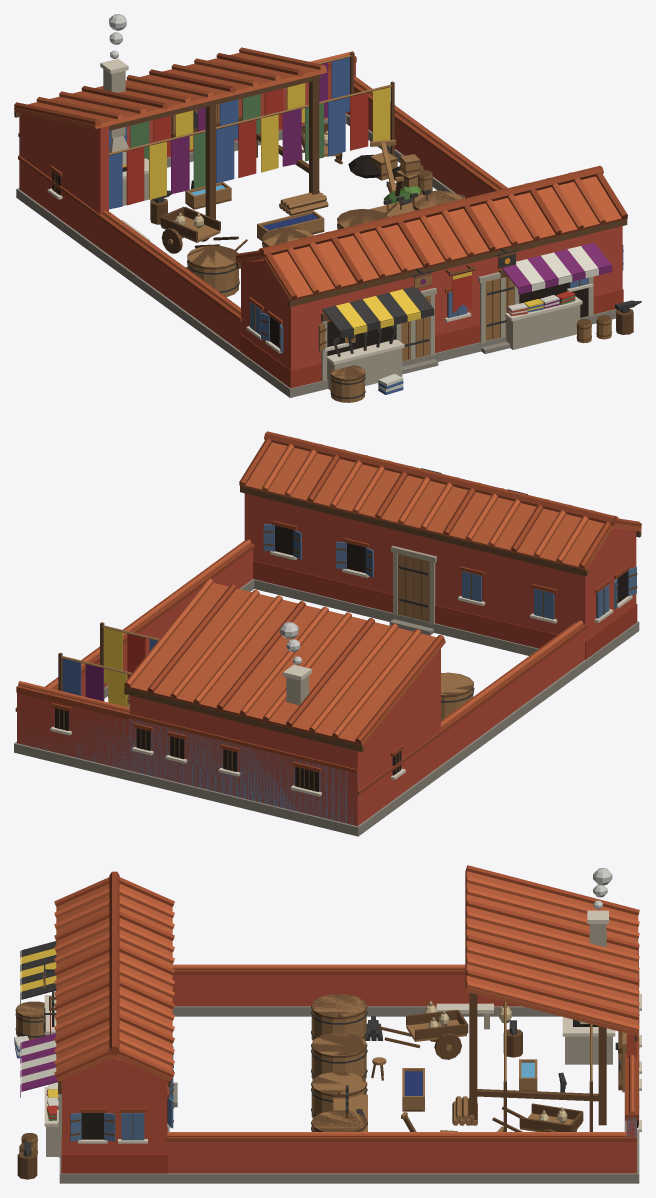
Rendered from Werkhof.fbx.
3 renders of one model, top to bottom at view 1: azimuth 30°, elevation 25°; view 2: azimuth 150°, elevation 25°; view 3: azimuth 270°, elevation 25°, orthographic. The views are drawn at different scales.
Visible parts, largest first — view 1: Werkhof_0, Werkhof_1; view 2: Werkhof_0, Werkhof_1; view 3: Werkhof_0, Werkhof_1.
Boxes of the visible parts, x1,y1,x2,y2 form: Werkhof_0: (14, 14, 641, 397); Werkhof_1: (18, 51, 623, 402); Werkhof_0: (14, 431, 641, 836); Werkhof_1: (15, 489, 637, 834); Werkhof_0: (17, 865, 641, 1183); Werkhof_1: (14, 943, 641, 1174).
Size of the model in its own units: 3.65 by 1.81 by 5.48.
